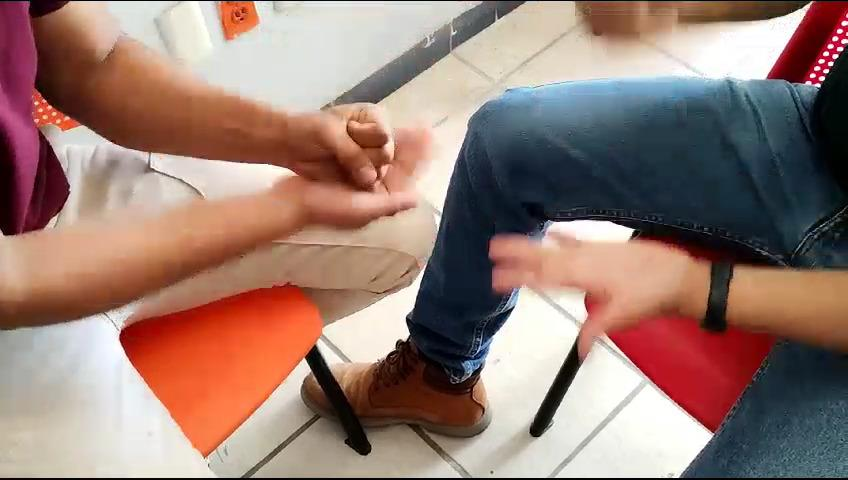Stone: (278, 92, 407, 213)
